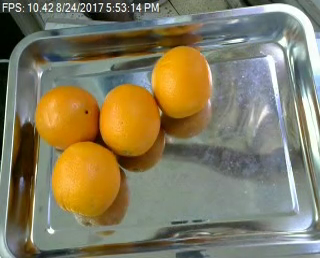Orange: (50, 139, 121, 216), (99, 82, 161, 155), (34, 84, 100, 149), (152, 46, 212, 117)
